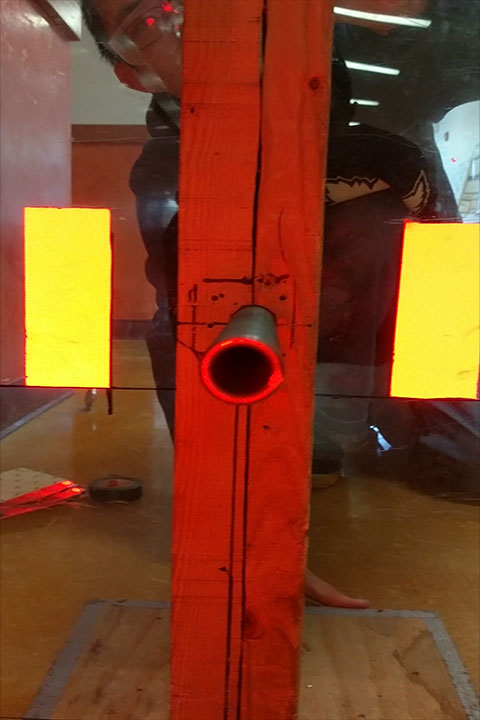gear: (22, 206, 112, 391), (387, 221, 480, 399)
